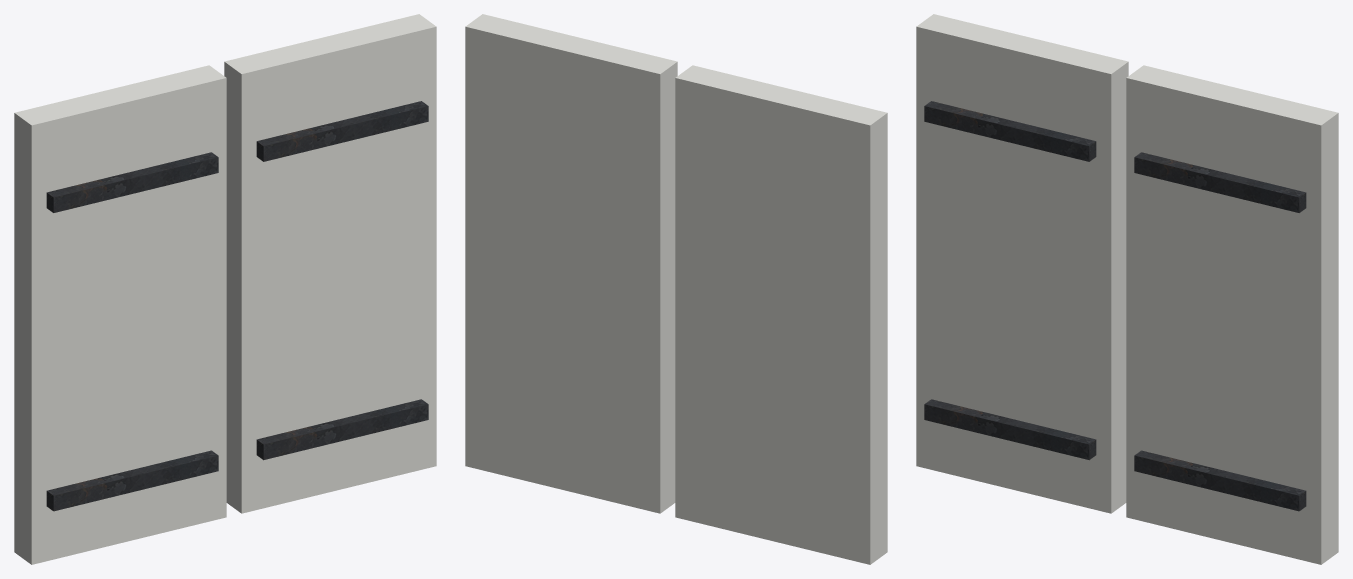
The model's file is shutters_blue.glb.
The picture shows the model from 3 angles, left to right: view 1: azimuth 30°, elevation 25°; view 2: azimuth 150°, elevation 25°; view 3: azimuth 330°, elevation 25°; orthographic projection.
Visible parts, largest first — view 1: shutters_blue; view 2: shutters_blue; view 3: shutters_blue.
Boxes of the visible parts, x1,y1,x2,y2 form: shutters_blue: (14, 14, 436, 564); shutters_blue: (465, 14, 887, 564); shutters_blue: (916, 14, 1338, 564).
Size of the model in its own units: 1.35 by 1.4 by 0.14.
